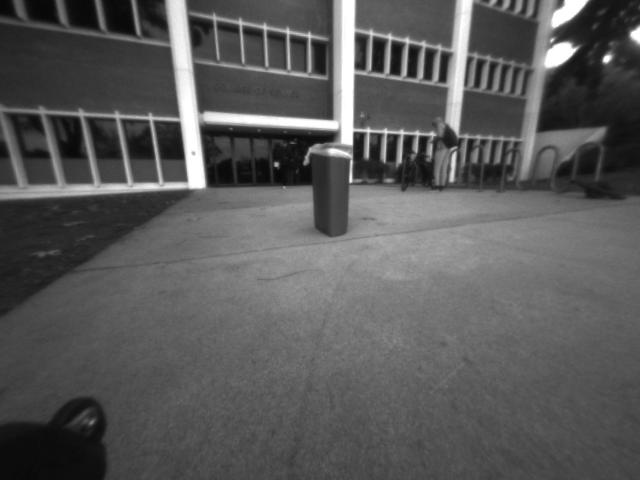trashcan_open: (303, 138, 360, 243)
